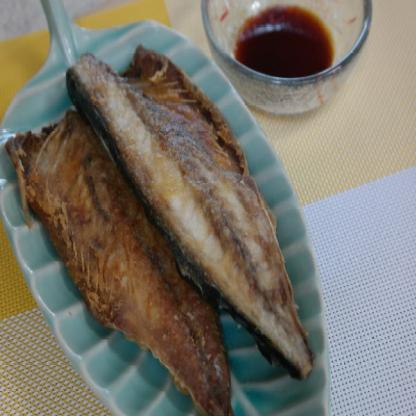Peixe: (0, 61, 309, 416)
